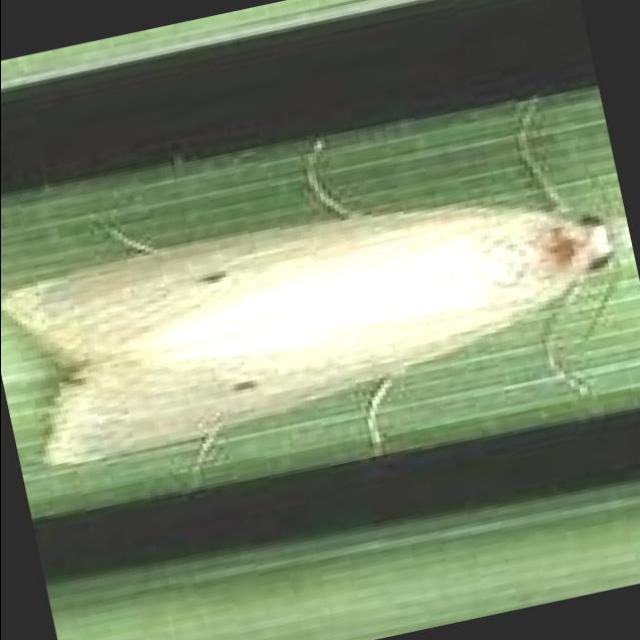stem borer: (0, 98, 612, 468)
